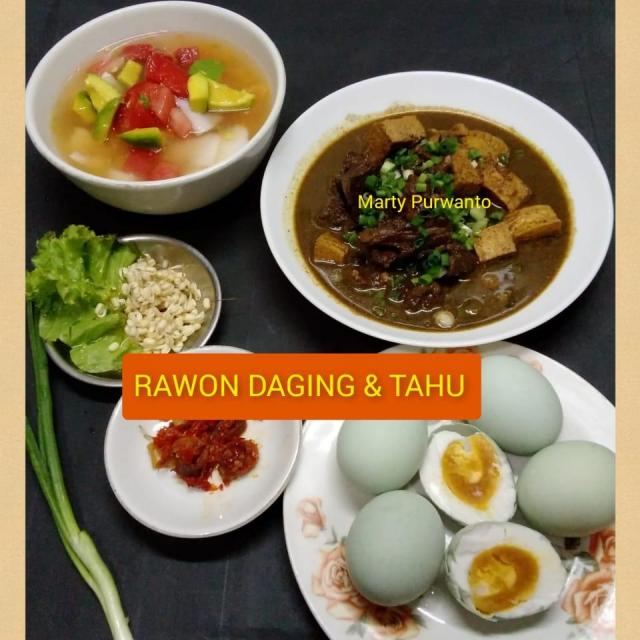Rawon: (294, 109, 564, 321)
